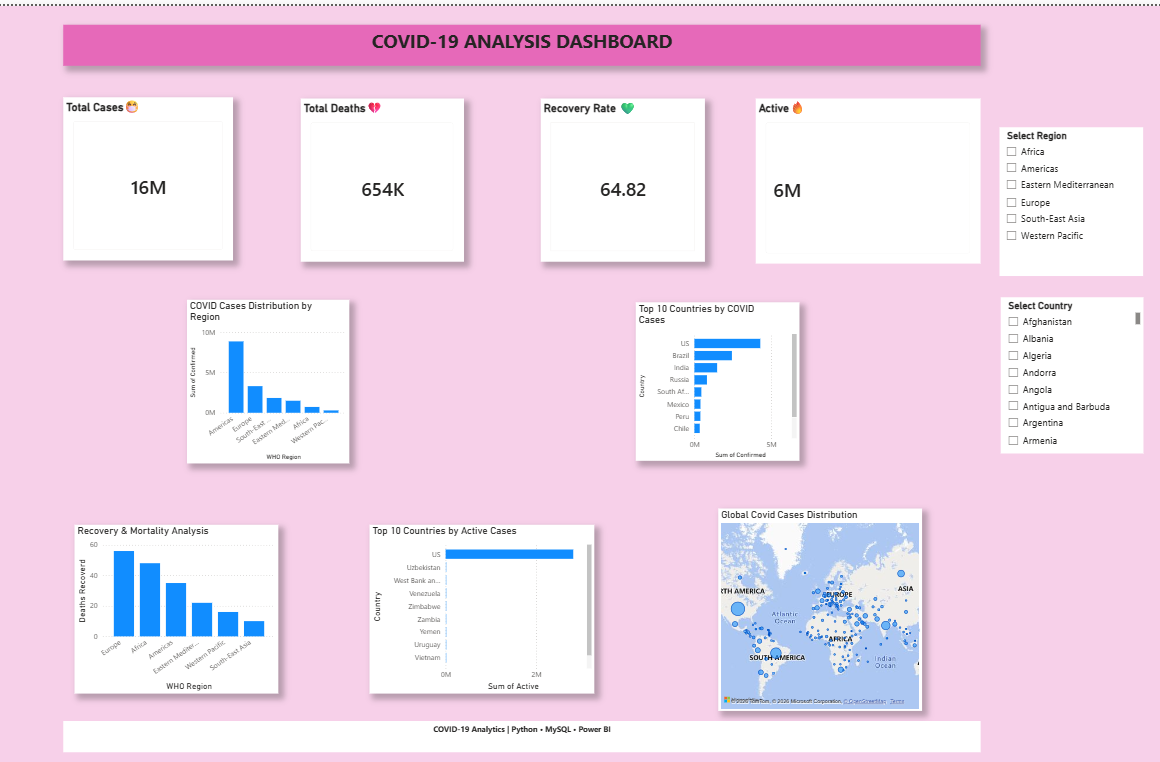

The page's visual inventory and layout, read from the dashboard file:
{"tool":"powerbi","page":{"name":"Page 1","canvas":[2000,1300],"ordinal":0},"visuals":[{"type":"cardVisual","title":"Total Cases😷","fields":{"Data":["Sum(cleaned_covid_data.Confirmed)"]},"box":[112.7,155.9,291.2,279.9],"z":0},{"type":"cardVisual","title":"Total Deaths💔","fields":{"Data":["Sum(cleaned_covid_data.Deaths)"]},"box":[520.4,157.8,279.9,279.9],"z":1000},{"type":"cardVisual","title":"Recovery Rate 💚","fields":{"Data":["Avg(cleaned_covid_data.Recovery_Rate)"]},"box":[931.8,157.8,281.8,279.9],"z":2000},{"type":"textbox","box":[113.6,32.2,1573.8,70.8],"z":3000},{"type":"clusteredColumnChart","title":"COVID Cases Distribution by Region","fields":{"Category":["cleaned_covid_data.WHO Region"],"Y":["Sum(cleaned_covid_data.Confirmed)"]},"box":[325.9,503.9,278.7,280.9],"z":4000},{"type":"clusteredBarChart","title":"Top 10 Countries by COVID Cases ","fields":{"Category":["cleaned_covid_data.Country"],"Y":["Sum(cleaned_covid_data.Confirmed)"]},"box":[1095.6,508.1,280.9,272.3],"z":5000},{"type":"clusteredColumnChart","title":"Recovery & Mortality Analysis","fields":{"Category":["cleaned_covid_data.WHO Region"],"Y":["CountNonNull(cleaned_covid_data.Deaths / 100 Recovered)"]},"box":[132.9,889.8,349.5,289.5],"z":6000},{"type":"clusteredBarChart","title":"Top 10 Countries by Active Cases","fields":{"Category":["cleaned_covid_data.Country"],"Y":["Sum(cleaned_covid_data.Active)"]},"box":[638.9,889.8,385.9,289.5],"z":7000},{"type":"slicer","fields":{"Values":["cleaned_covid_data.WHO Region"]},"box":[1719.6,208,246.6,255.1],"z":8000},{"type":"slicer","fields":{"Values":["cleaned_covid_data.Country"]},"box":[1721.7,499.6,244.4,268],"z":9000},{"type":"map","title":"Global Covid Cases Distribution","fields":{"Category":["cleaned_covid_data.Country"],"Size":["Sum(cleaned_covid_data.Confirmed)"]},"box":[1237.1,861.9,349.5,347.3],"z":10000},{"type":"cardVisual","title":"Active🔥","fields":{"Data":["Sum(cleaned_covid_data.Active)"]},"box":[1301.5,158.7,385.9,283],"z":10001},{"type":"textbox","box":[113.6,1226.4,1573.8,53.6],"z":10002}]}

Visuals, with their boxes in screenshot pixels (x1, y1, x2, y2), scaled from the page's 2000x1300 canvas onto the 1160x762 screenshot:
"Total Cases😷" cardVisual: crop(65, 91, 234, 255)
"Total Deaths💔" cardVisual: crop(302, 92, 464, 257)
"Recovery Rate 💚" cardVisual: crop(540, 92, 704, 257)
textbox: crop(66, 19, 979, 60)
"COVID Cases Distribution by Region" clusteredColumnChart: crop(189, 295, 351, 460)
"Top 10 Countries by COVID Cases " clusteredBarChart: crop(635, 298, 798, 457)
"Recovery & Mortality Analysis" clusteredColumnChart: crop(77, 522, 280, 691)
"Top 10 Countries by Active Cases" clusteredBarChart: crop(371, 522, 594, 691)
slicer - cleaned_covid_data.WHO Region: crop(997, 122, 1140, 271)
slicer - cleaned_covid_data.Country: crop(999, 293, 1140, 450)
"Global Covid Cases Distribution" map: crop(718, 505, 920, 709)
"Active🔥" cardVisual: crop(755, 93, 979, 259)
textbox: crop(66, 719, 979, 750)
